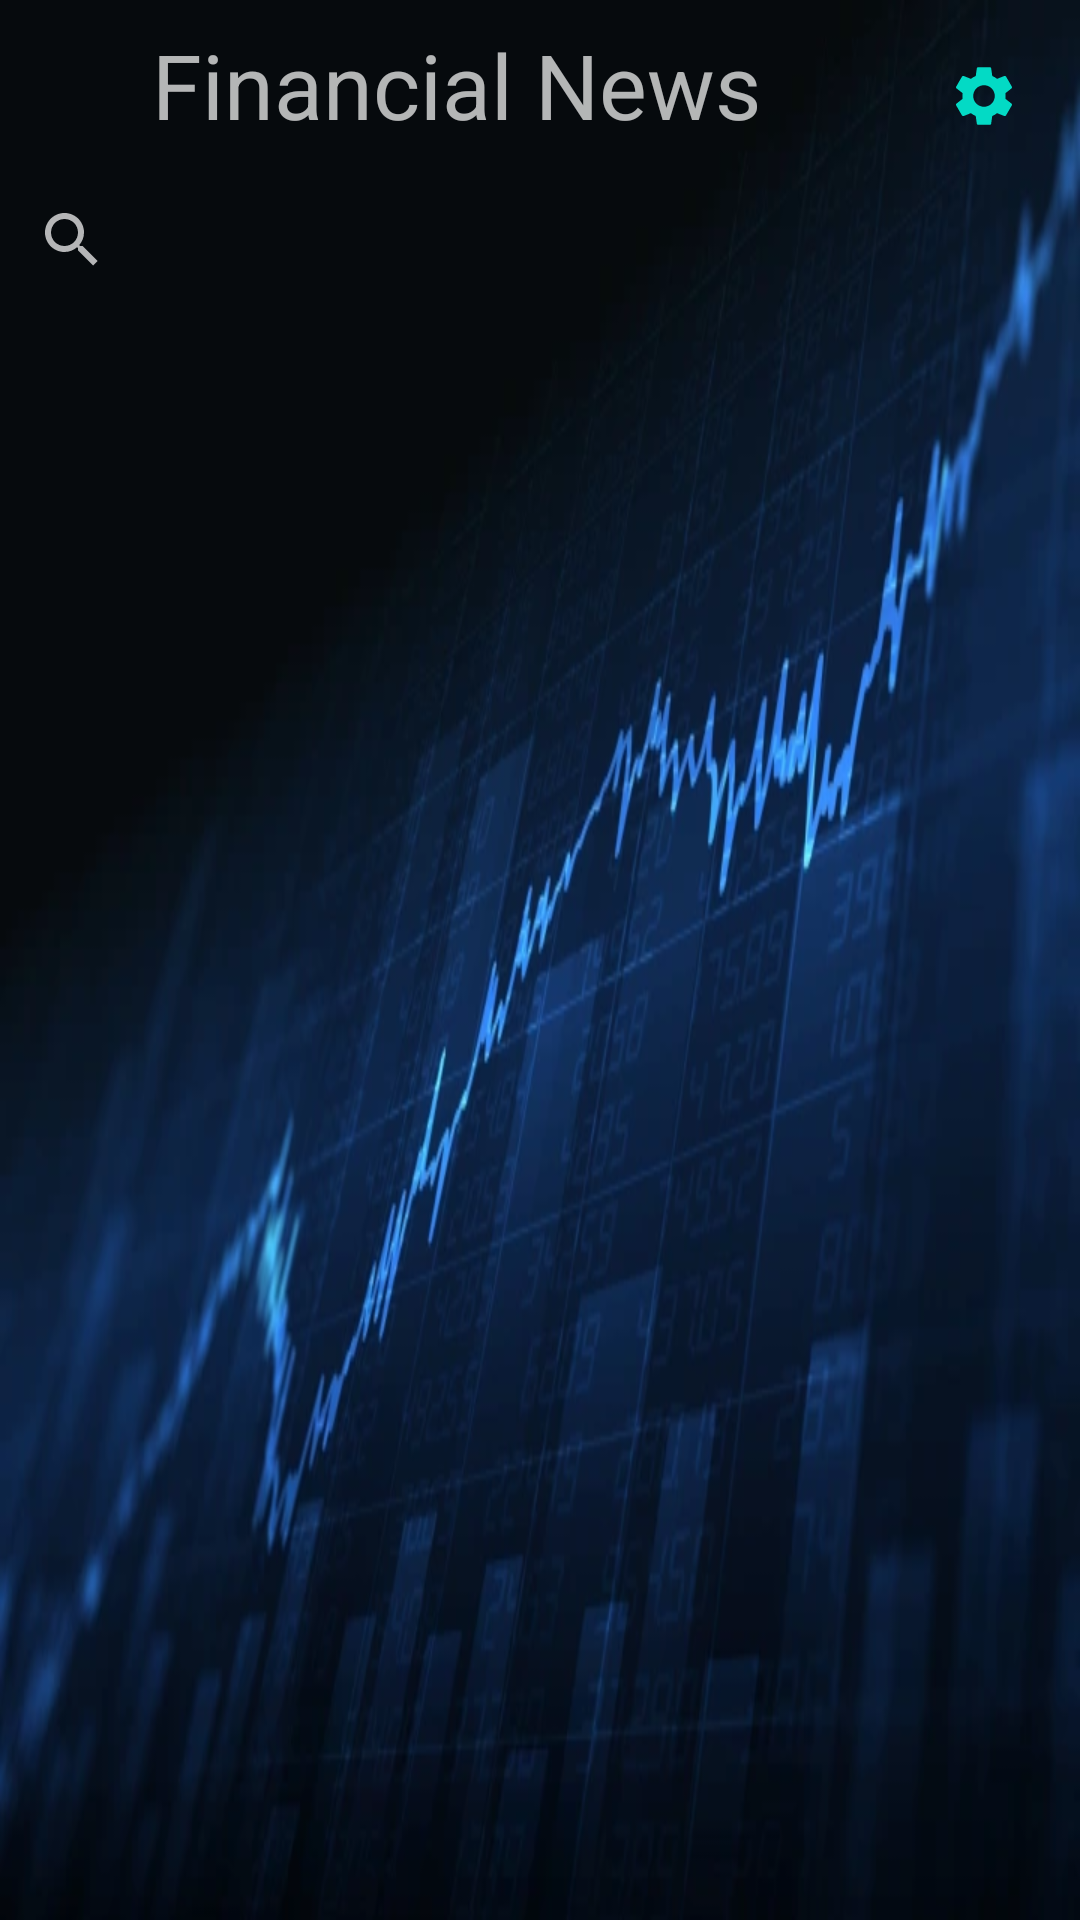

Named icons in this screenshot (1080w x 1920h) and their centers, (x=x, y=y):
settings: (x=984, y=96)
